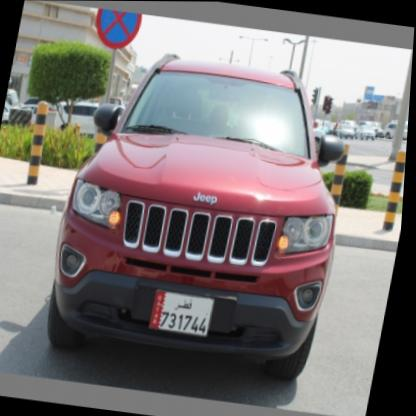np: (147, 286, 222, 340)
